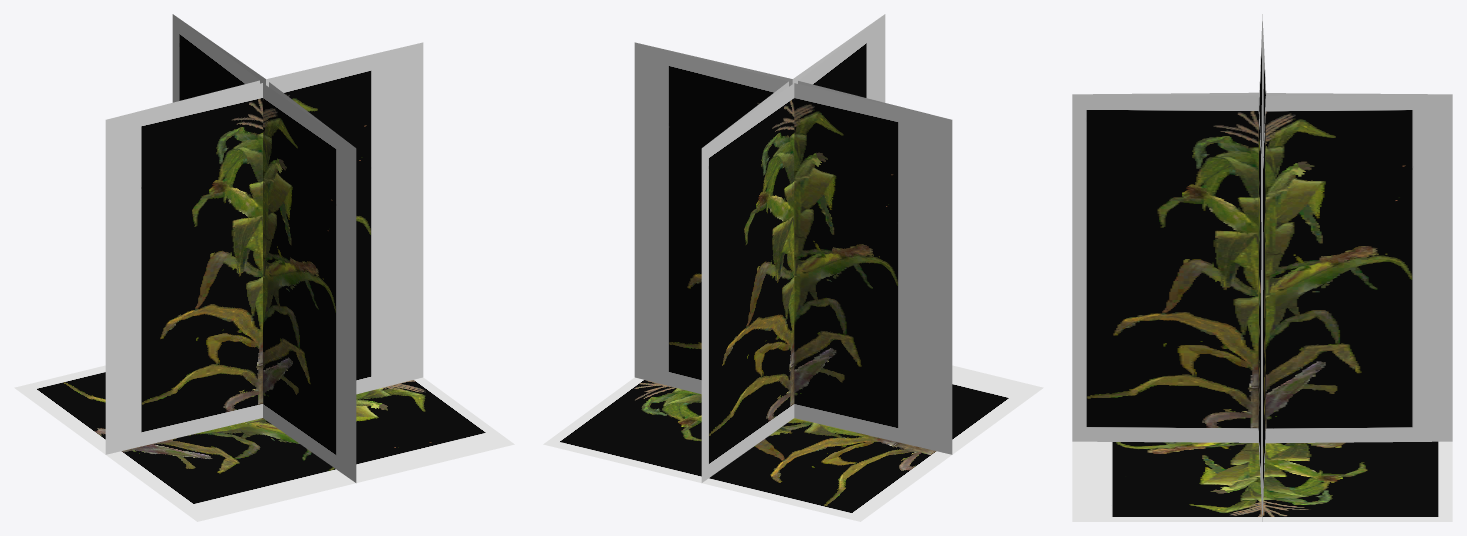
File: Plant_Mesh_001.fbx
3 views of the same model, side by side, from view 1: azimuth 30°, elevation 25°; view 2: azimuth 150°, elevation 25°; view 3: azimuth 270°, elevation 25° (orthographic). The views are drawn at different scales.
Parts seen in each view (by area): view 1: Object001; view 2: Object001; view 3: Object001.
Part boxes in pixels (x1,y1,x2,y2): Object001: [14, 14, 514, 521]; Object001: [543, 14, 1043, 521]; Object001: [1072, 14, 1452, 521].
Size of the model in its own units: 31.2 by 31.2 by 31.45.
